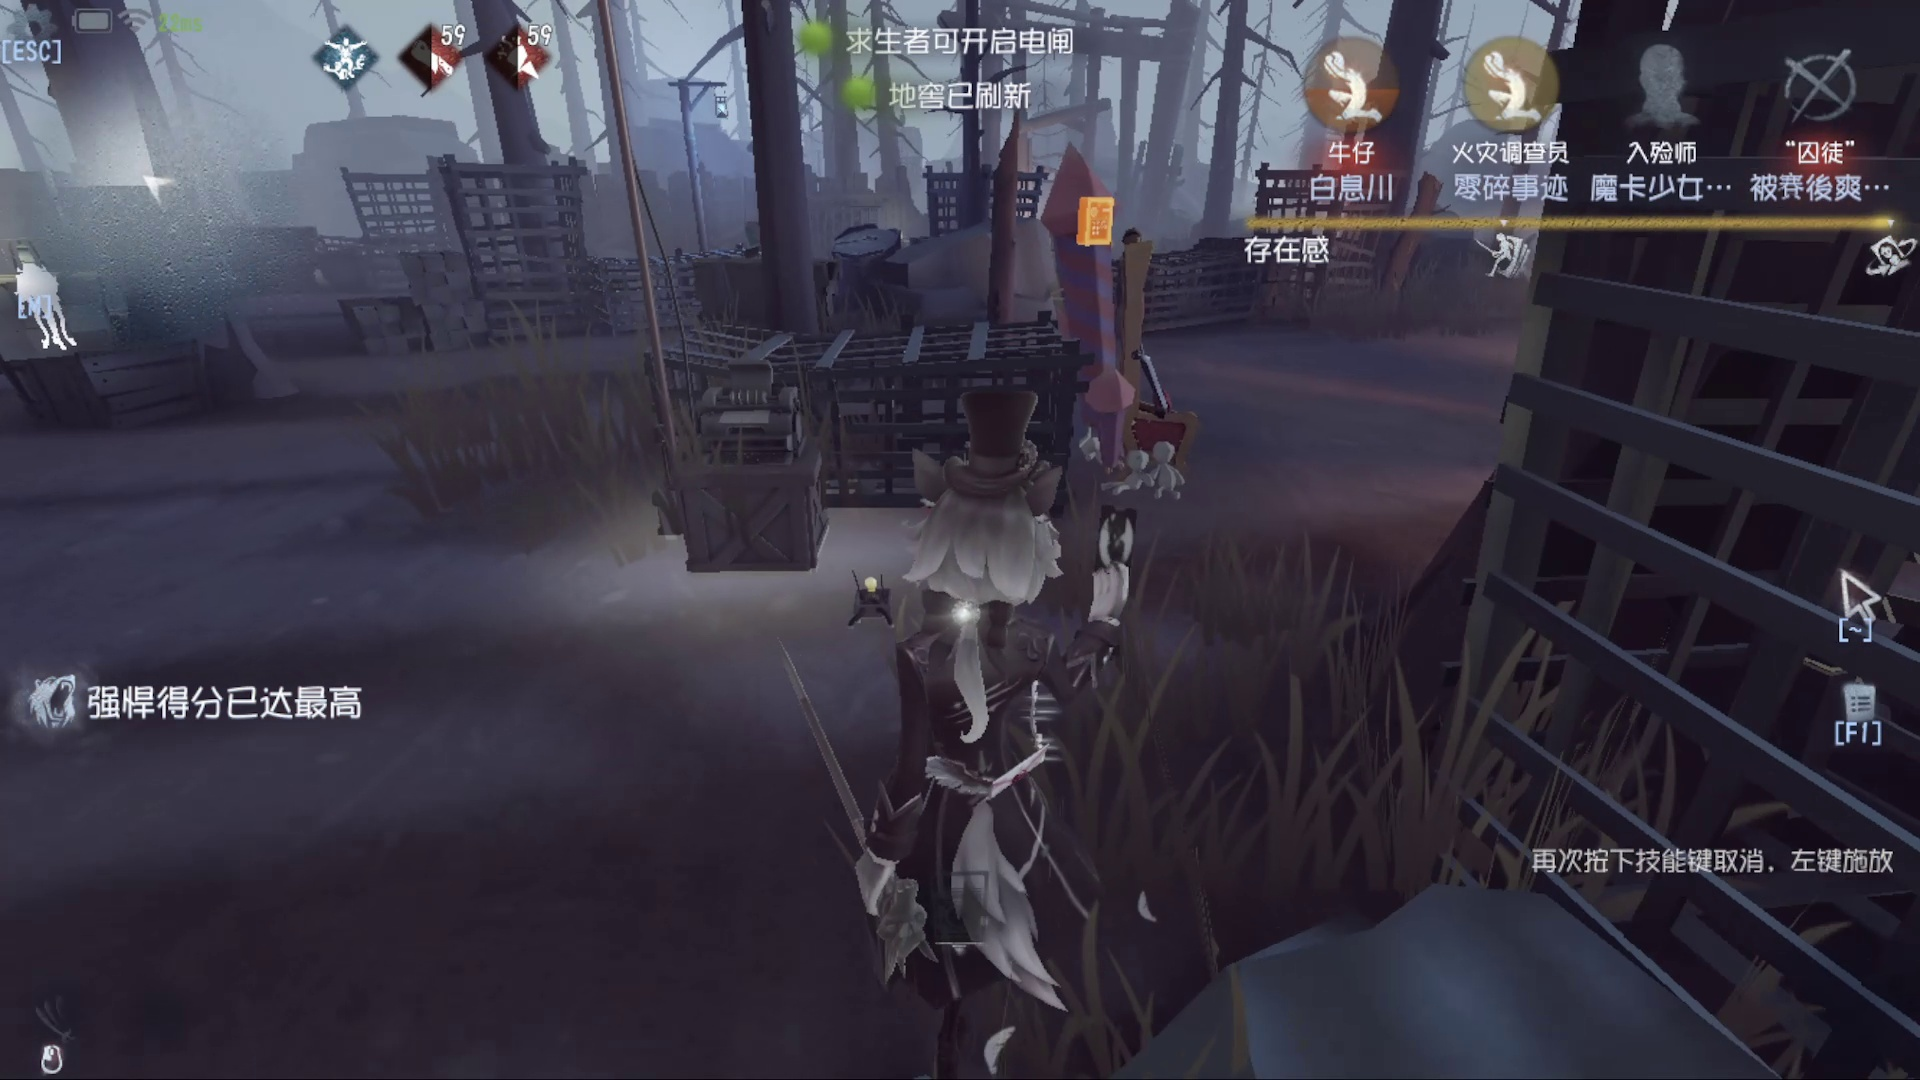密码机: (617, 334, 876, 607)
狂欢之椅: (1036, 140, 1197, 505)
